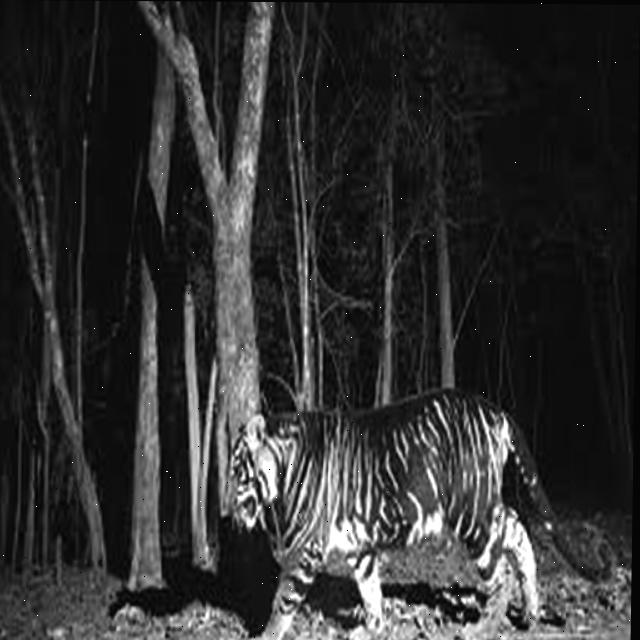Tiger: (217, 384, 619, 640)
